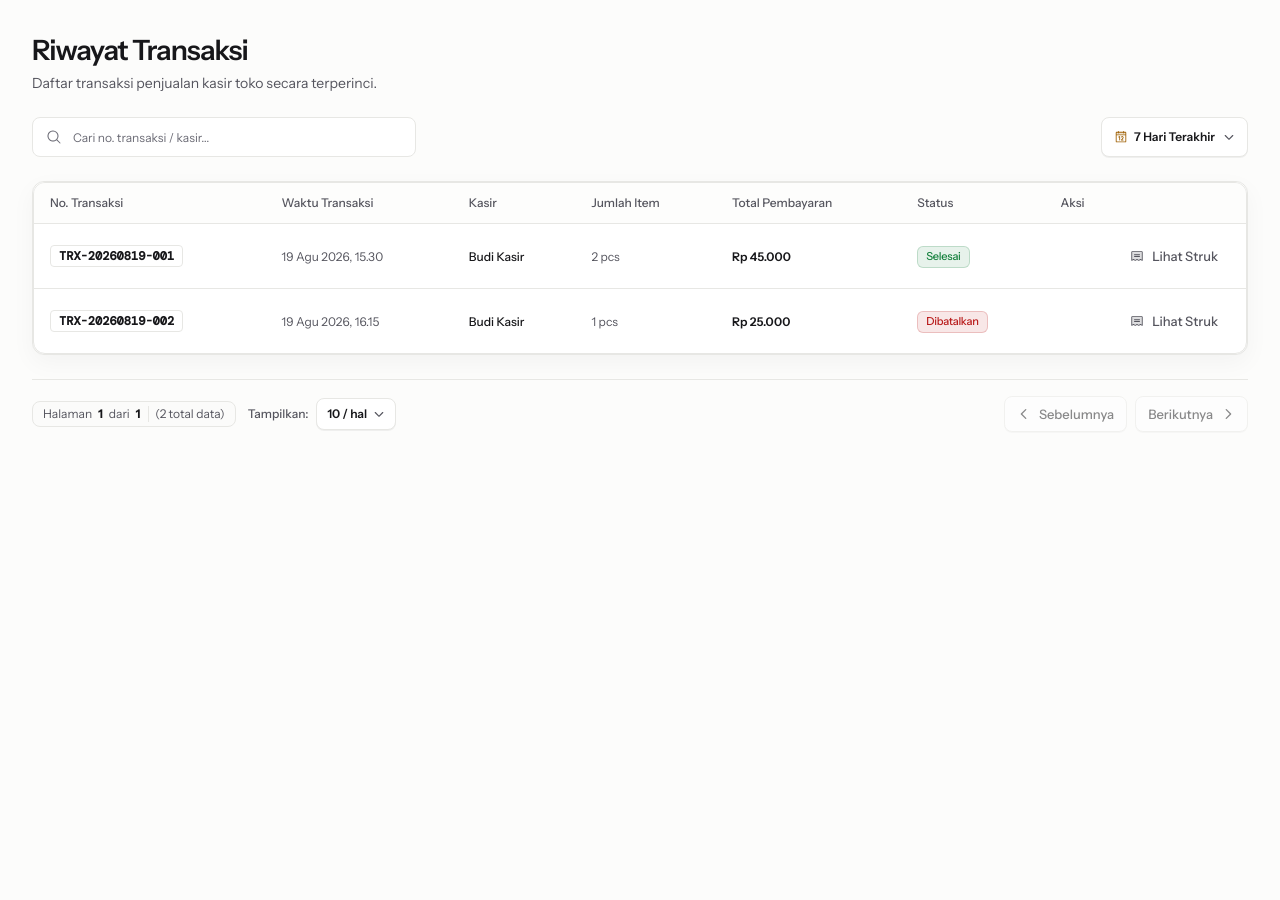
Scenario: CashierTransactionsView Component › opens receipt detail modal and fetches transaction detail when action button is clicked
Click the button "Lihat Struk" in the row of "TRX-20260819-001". click: point(1174, 256)
box: [1118, 238, 1230, 274]
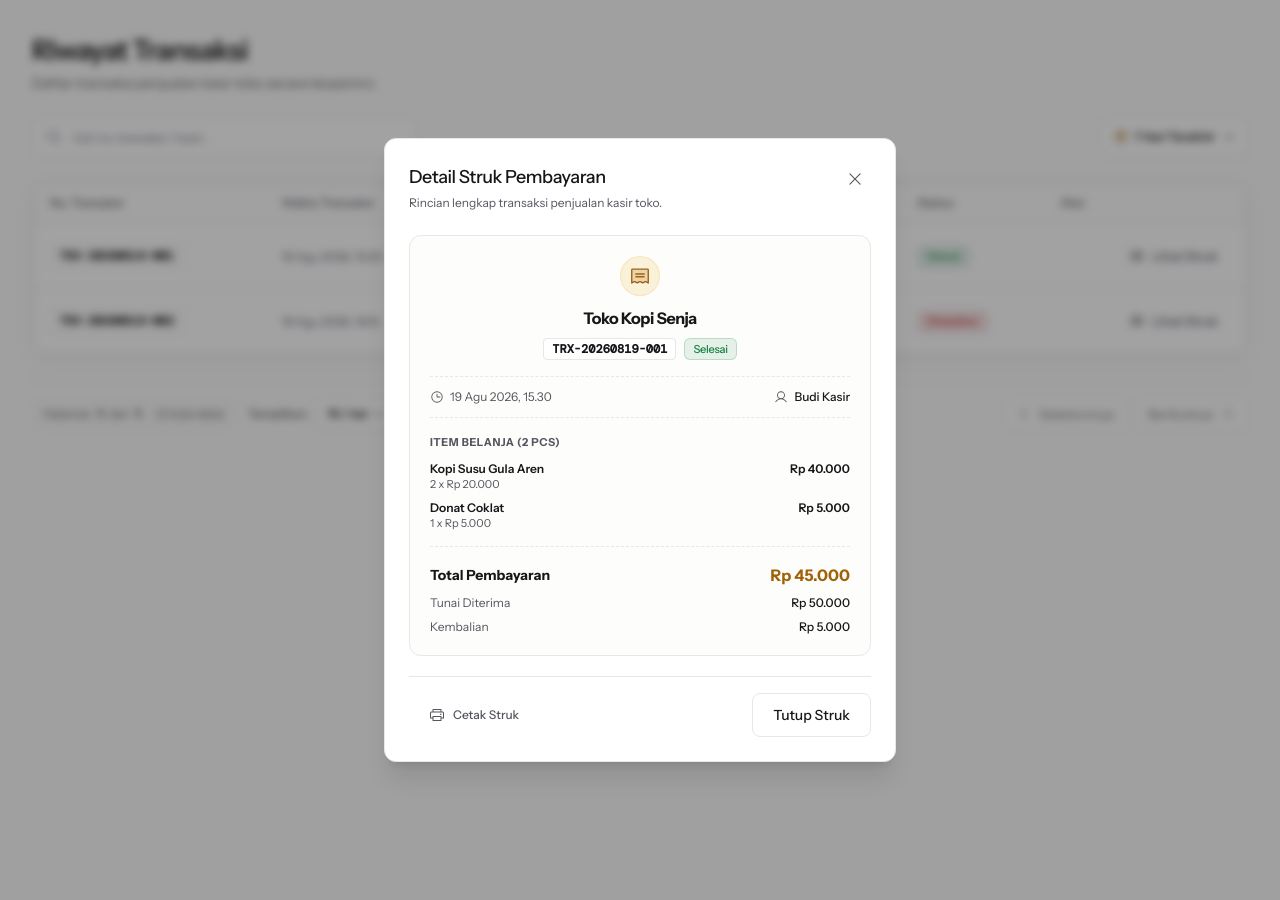
Check: the dialog is shown
Check: the heading "Detail Struk Pembayaran" is shown, box [409, 166, 606, 188]
Check: the text "Kopi Susu Gula Aren" is shown, box [430, 461, 544, 476]
Click the button "Tutup Struk". click: point(812, 715)
box: [752, 693, 871, 737]
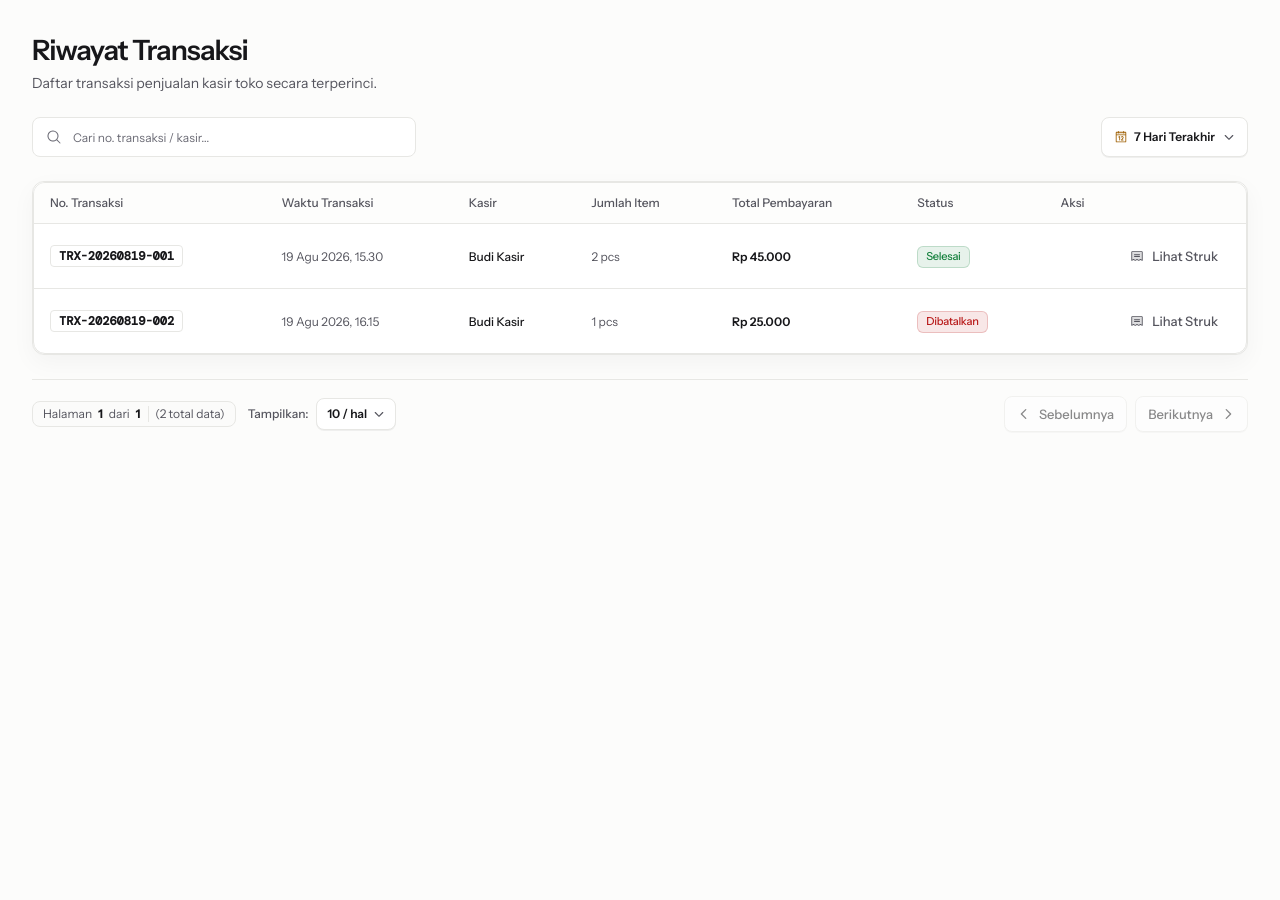
Check: the dialog is gone
